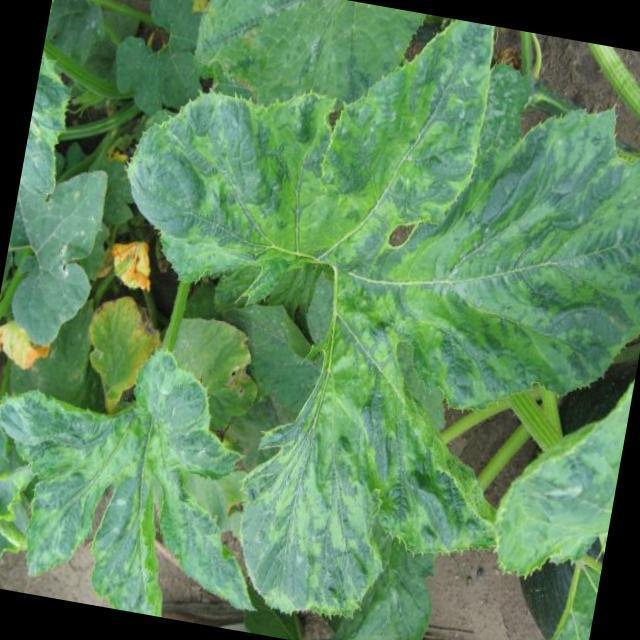Mosaic Virus: (0, 351, 268, 615), (257, 343, 508, 624), (430, 106, 640, 403), (312, 12, 476, 286), (136, 82, 310, 290)
